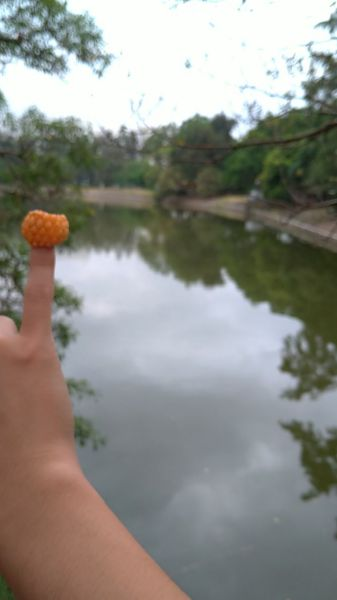eggs: (20, 208, 68, 248)
